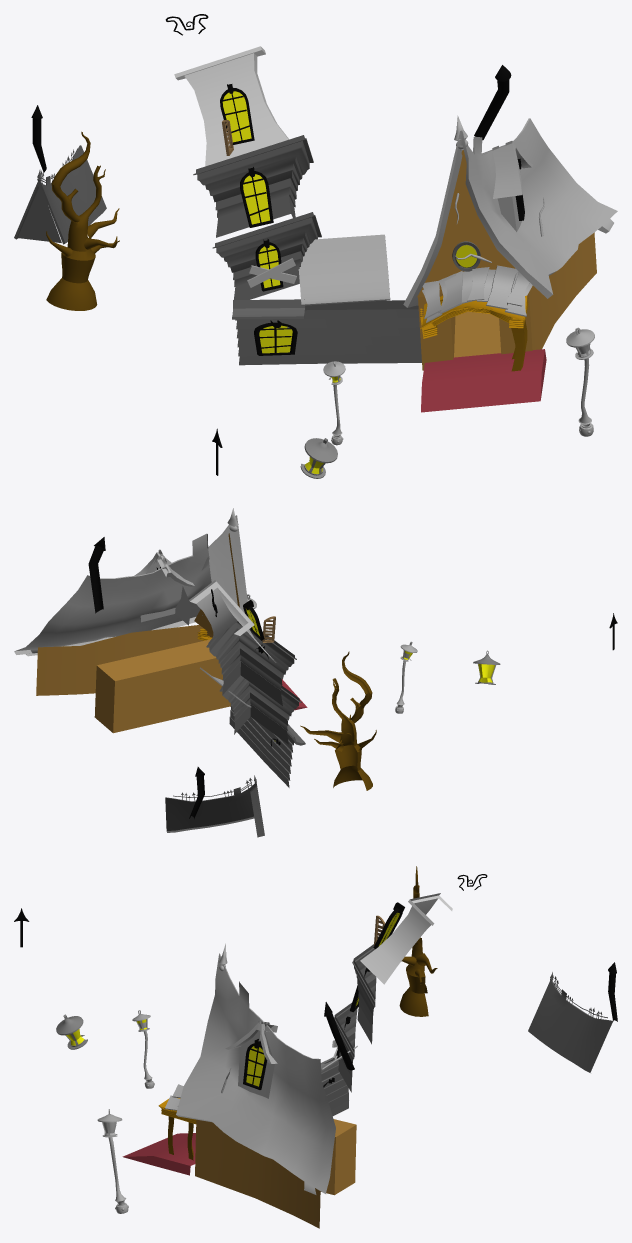
3 views of the same model, one above another, from view 1: azimuth 30°, elevation 25°; view 2: azimuth 150°, elevation 25°; view 3: azimuth 270°, elevation 25° (orthographic). The views are drawn at different scales.
Visible parts, largest first — view 1: polySurface270, skin, pCube198, pCylinder1, tower, pCube190, top1, tree, tower1, polySurface223, polySurface281, polySurface272 (+12 smaller); view 2: pCube198, polySurface270, tower, polySurface223, tree, tower1, skin, top1, polySurface280, chimney, polySurface273, LATERN1; view 3: polySurface270, pCube198, polySurface223, top1, tree, pCylinder1, tower, tower1, skin, wind4, polySurface280, steet_light (+4 smaller).
Part boxes in pixels (x1,y1,x2,y2): polySurface270: [403, 118, 617, 307]; skin: [232, 299, 421, 365]; pCube198: [418, 232, 596, 370]; pCylinder1: [421, 349, 546, 412]; tower: [193, 135, 313, 237]; pCube190: [298, 234, 390, 305]; top1: [174, 46, 289, 166]; tree: [46, 131, 119, 310]; tower1: [212, 212, 321, 299]; polySurface223: [14, 145, 106, 244]; polySurface281: [422, 265, 532, 322]; polySurface272: [417, 150, 533, 297]; pCube198: [36, 625, 230, 733]; polySurface270: [14, 515, 247, 656]; tower: [206, 621, 296, 705]; polySurface223: [165, 775, 264, 837]; tree: [300, 651, 376, 790]; tower1: [219, 675, 301, 744]; skin: [229, 706, 305, 787]; top1: [189, 580, 275, 662]; polySurface280: [140, 553, 191, 625]; chimney: [88, 537, 105, 613]; polySurface273: [134, 549, 194, 586]; LATERN1: [473, 650, 500, 684]; polySurface270: [176, 953, 335, 1194]; pCube198: [195, 1119, 356, 1228]; polySurface223: [528, 972, 613, 1072]; top1: [360, 893, 452, 984]; tree: [399, 866, 437, 1016]; pCylinder1: [122, 1133, 195, 1175]; tower: [352, 944, 376, 1044]; tower1: [334, 1002, 357, 1092]; skin: [321, 1057, 348, 1115]; wind4: [243, 1039, 267, 1089]; polySurface280: [238, 1023, 274, 1098]; steet_light: [97, 1109, 128, 1213].
Bounding box in the file's own units: 0.2506 × 0.1296 × 0.2687.
